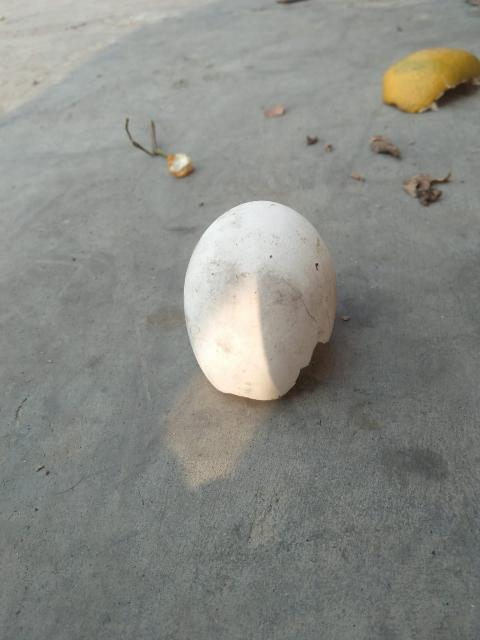Roto: (184, 199, 335, 403)
